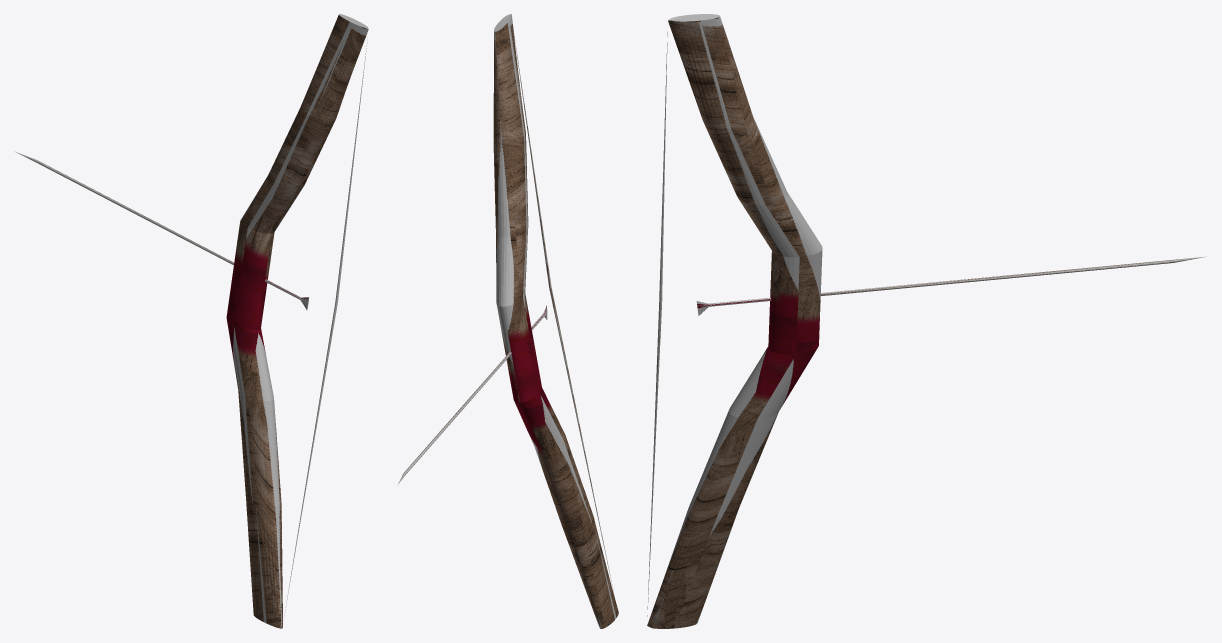
Rendered from Arco18.obj.
3 renders of one model, left to right at view 1: azimuth 30°, elevation 25°; view 2: azimuth 150°, elevation 25°; view 3: azimuth 270°, elevation 25°, orthographic. The views are drawn at different scales.
Parts seen in each view (by area): view 1: Cilindro; view 2: Cilindro; view 3: Cilindro.
Part boxes in pixels (x1,y1,x2,y2): Cilindro: (16,14,368,628); Cilindro: (398,14,618,628); Cilindro: (647,14,1205,628).
Size of the model in its own units: 0.2185 by 0.9705 by 0.7449.
Materials: 1 (1 with a texture image).
